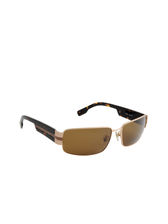glasses: (16, 99, 155, 156)
